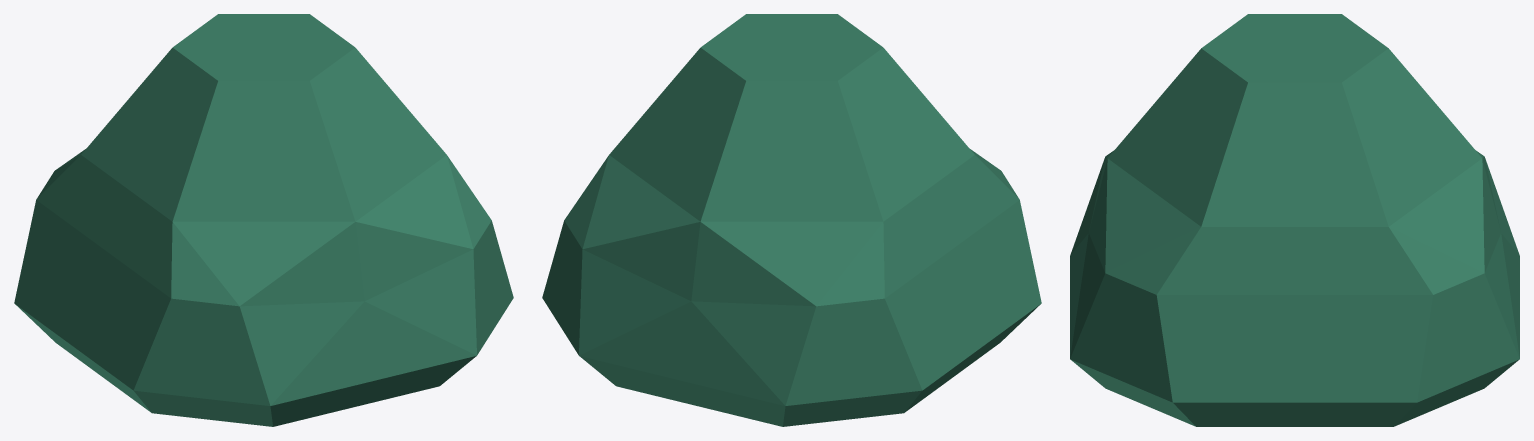
Rendered from headCollider.obj.
3 views of the same model, side by side, from view 1: azimuth 30°, elevation 25°; view 2: azimuth 150°, elevation 25°; view 3: azimuth 270°, elevation 25° (orthographic). The views are drawn at different scales.
Visible parts, largest first — view 1: broccoli.003; view 2: broccoli.003; view 3: broccoli.003.
Part boxes in pixels (<box>): broccoli.003: <box>14,14,513,426</box>; broccoli.003: <box>542,14,1041,426</box>; broccoli.003: <box>1070,14,1519,426</box>.
Size of the model in its own units: 0.1876 by 0.1374 by 0.1876.
